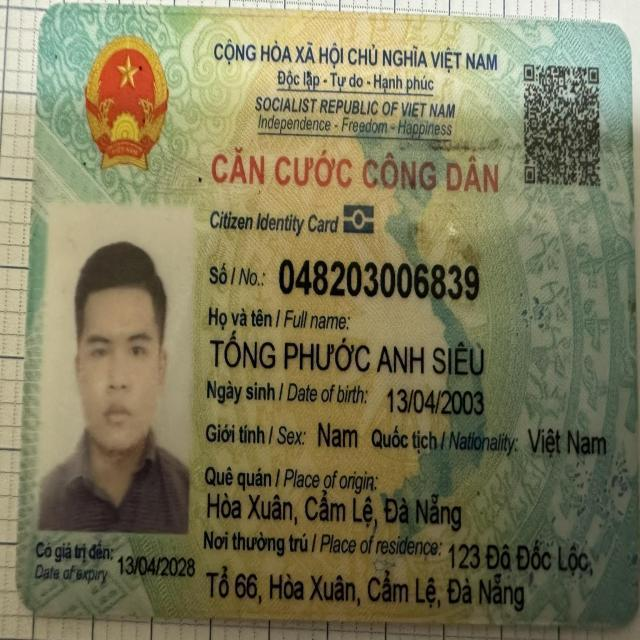current_place: (203, 562, 530, 616), (443, 534, 599, 577)
dob: (383, 379, 488, 423)
expire_date: (115, 548, 199, 583)
gender: (315, 416, 360, 453)
id: (274, 254, 483, 307)
name: (207, 326, 488, 382)
nationality: (526, 420, 611, 463)
origin_place: (203, 484, 465, 535)
